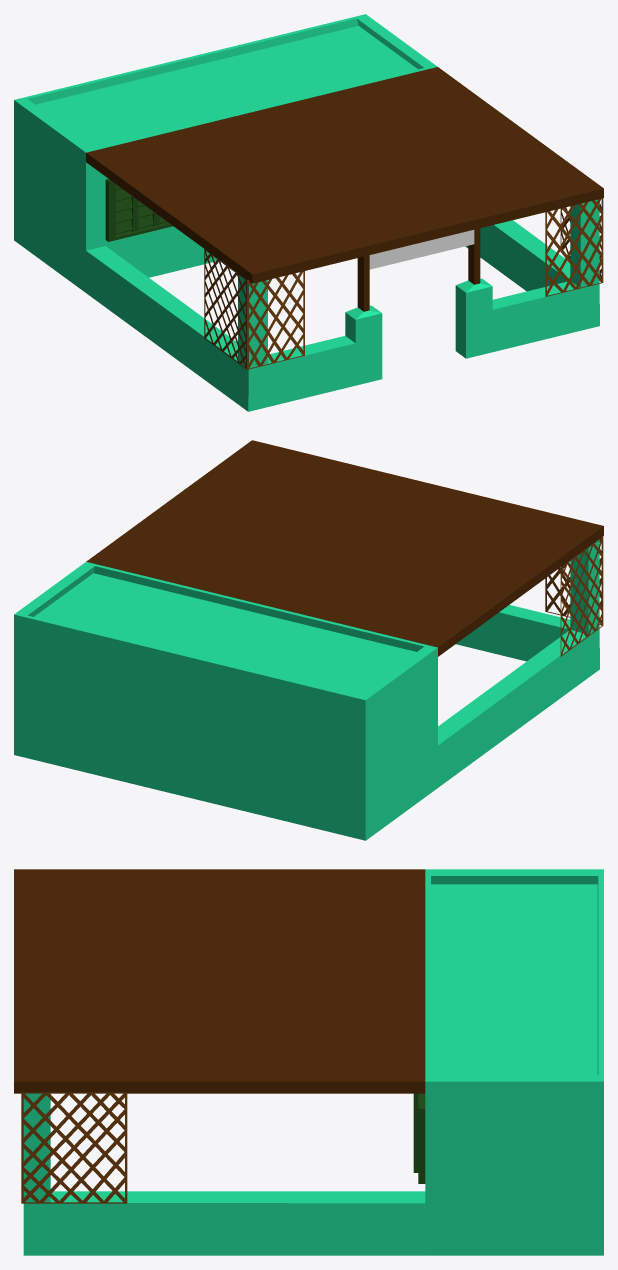
The model's file is 2ahwa.fbx.
3 views of the same model, one above another, from view 1: azimuth 30°, elevation 25°; view 2: azimuth 150°, elevation 25°; view 3: azimuth 270°, elevation 25° (orthographic). The views are drawn at different scales.
Visible parts, largest first — view 1: coffee se3edy, shabak, shobak el coffee; view 2: coffee se3edy, shabak; view 3: coffee se3edy, shabak.
Boxes of the visible parts, x1,y1,x2,y2 form: coffee se3edy: [14, 14, 603, 411]; shabak: [204, 198, 603, 369]; shobak el coffee: [116, 184, 166, 234]; coffee se3edy: [14, 440, 603, 840]; shabak: [545, 535, 603, 656]; coffee se3edy: [14, 869, 603, 1255]; shabak: [21, 1092, 127, 1203].
Size of the model in its own units: 1449 by 546 by 1678.
